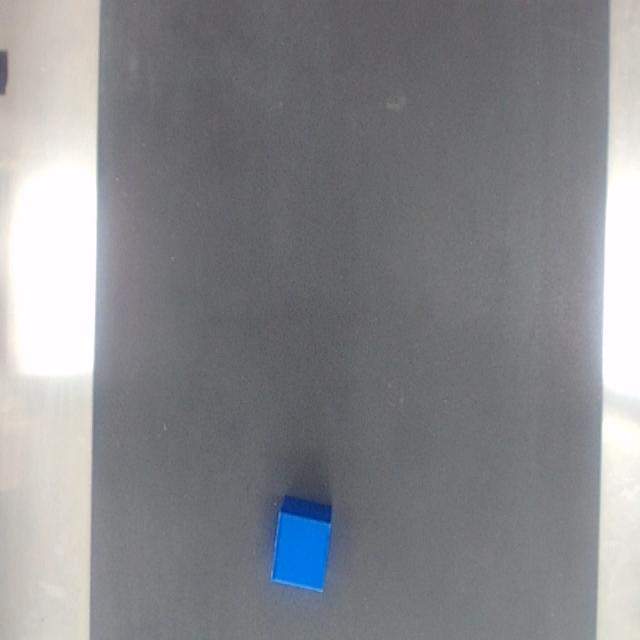Azul: (271, 497, 330, 592)
